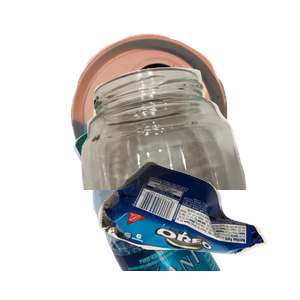glass: (74, 65, 300, 245)
metal: (68, 31, 288, 211)
plastic: (71, 120, 300, 300)
trash: (95, 158, 300, 300)
